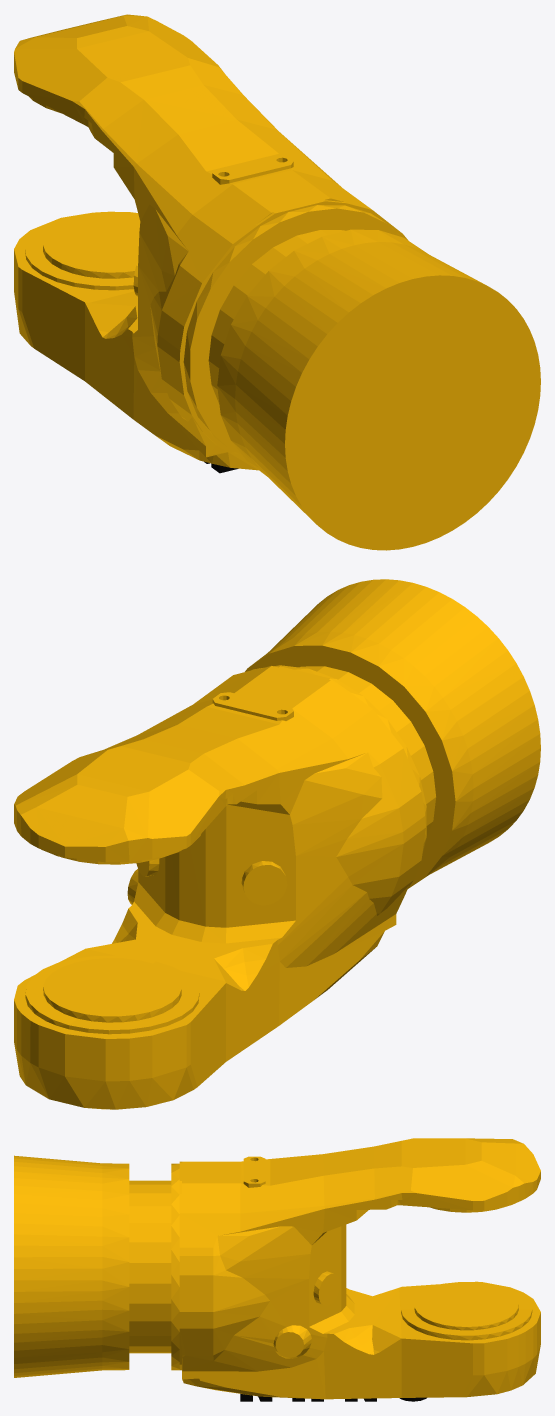
The picture shows the model from 3 angles, top to bottom: view 1: azimuth 30°, elevation 25°; view 2: azimuth 150°, elevation 25°; view 3: azimuth 270°, elevation 25°; orthographic projection. The views are drawn at different scales.
Visible parts, largest first — view 1: /node0/Mesh_001-mesh/0; view 2: /node0/Mesh_001-mesh/0; view 3: /node0/Mesh_001-mesh/0, /node1/Mesh001_001-mesh/0.
Boxes of the visible parts, x1=… form: /node0/Mesh_001-mesh/0: x1=14, y1=14, x2=540, y2=550; /node0/Mesh_001-mesh/0: x1=14, y1=579, x2=540, y2=1109; /node0/Mesh_001-mesh/0: x1=14, y1=1138, x2=540, y2=1399; /node1/Mesh001_001-mesh/0: x1=240, y1=1394, x2=426, y2=1401.
Bounding box in the file's own units: 0.1322 × 0.1547 × 0.3132.
